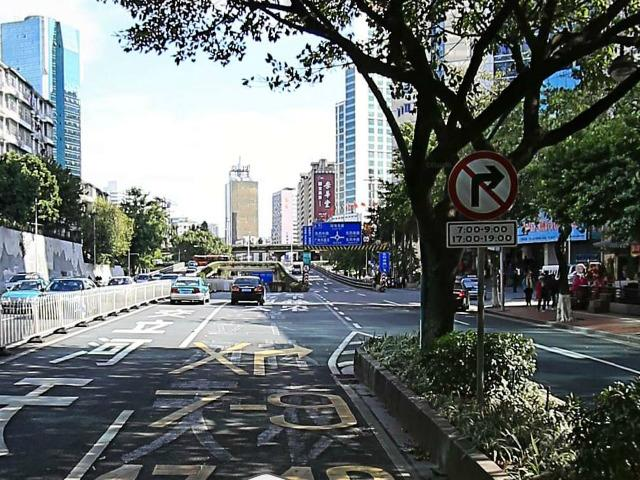not_turn_right: (448, 153, 520, 220)
